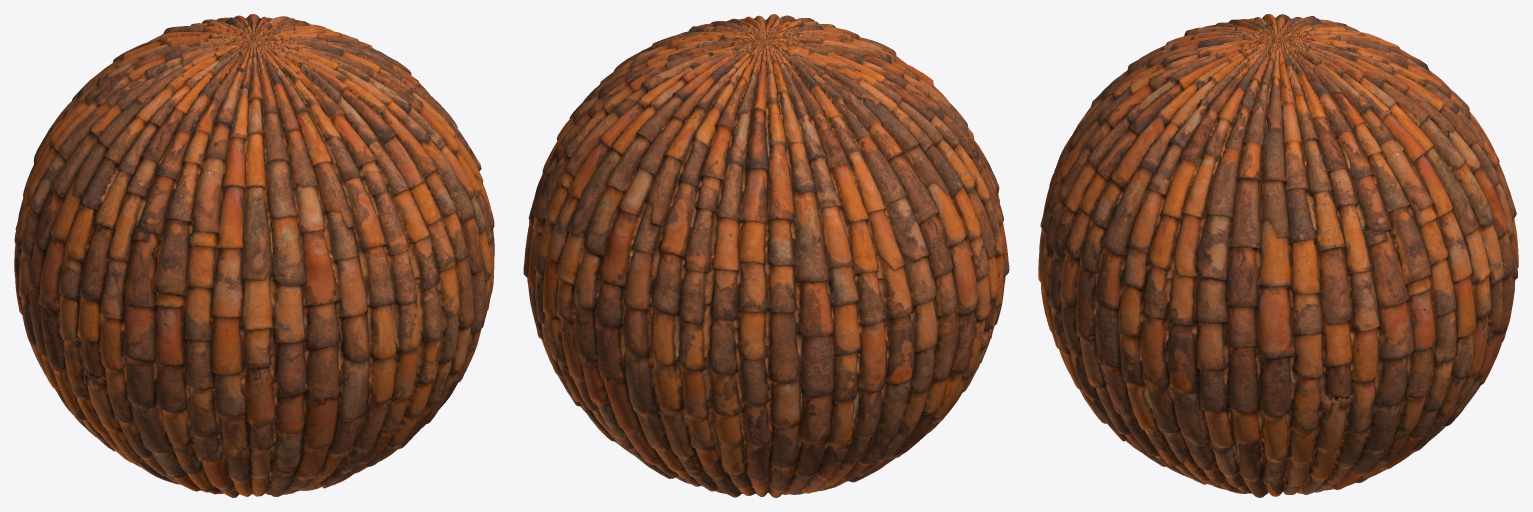
Rendered from clay_roof_tiles_02_1k.gltf.
3 renders of one model, left to right at view 1: azimuth 30°, elevation 25°; view 2: azimuth 150°, elevation 25°; view 3: azimuth 270°, elevation 25°, orthographic.
Visible parts, largest first — view 1: sphere_gltf; view 2: sphere_gltf; view 3: sphere_gltf.
Part boxes in pixels (<box>): sphere_gltf: <box>14,14,494,497</box>; sphere_gltf: <box>523,14,1009,497</box>; sphere_gltf: <box>1038,14,1518,497</box>.
Size of the model in its own units: 2.58 by 2.57 by 2.56.
Materials: 1 (1 with a texture image).
